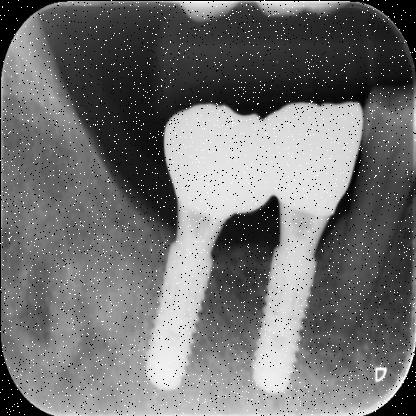ITI: (242, 244, 320, 398), (140, 243, 220, 392)
